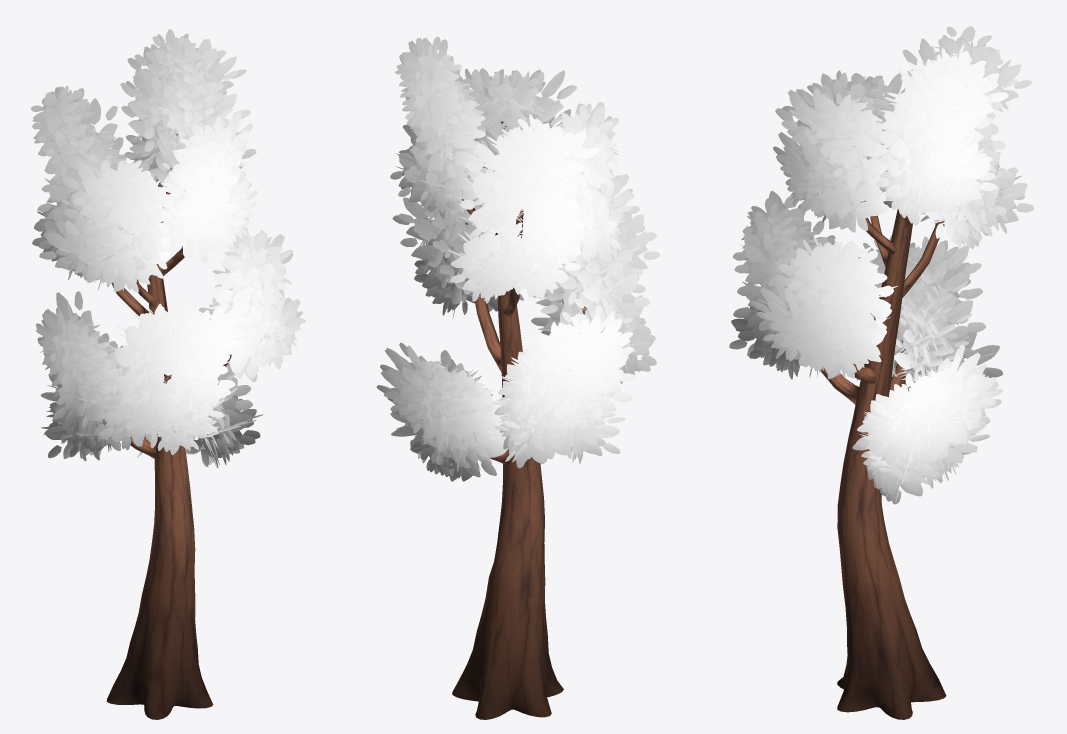
The model's file is CommonTree_3.glb.
The picture shows the model from 3 angles, left to right: view 1: azimuth 30°, elevation 25°; view 2: azimuth 150°, elevation 25°; view 3: azimuth 270°, elevation 25°; orthographic projection. The views are drawn at different scales.
Parts seen in each view (by area): view 1: CommonTree_3; view 2: CommonTree_3; view 3: CommonTree_3.
Part boxes in pixels (box(x1,y1,x2,y2)): CommonTree_3: box(30, 29, 305, 719); CommonTree_3: box(376, 36, 660, 719); CommonTree_3: box(729, 26, 1033, 719).
Size of what is drawn, in the model's own units: 4.06 by 9.43 by 4.24.
Materials: 2 (2 with a texture image).
